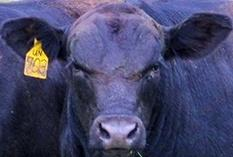muzzles: (87, 115, 147, 155)
